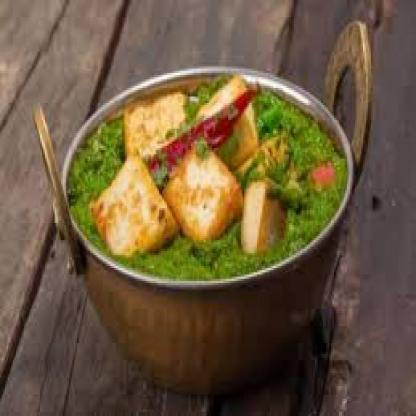palak_paneer: (66, 76, 347, 281)
